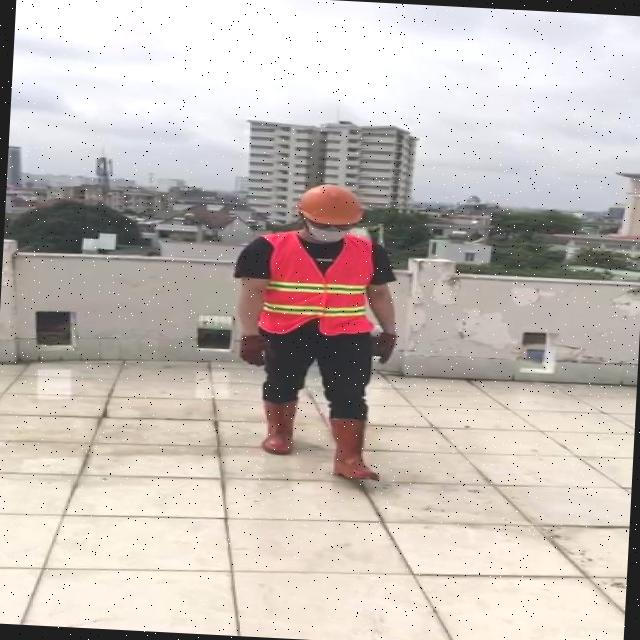boots: (322, 418, 392, 480), (254, 398, 302, 455)
